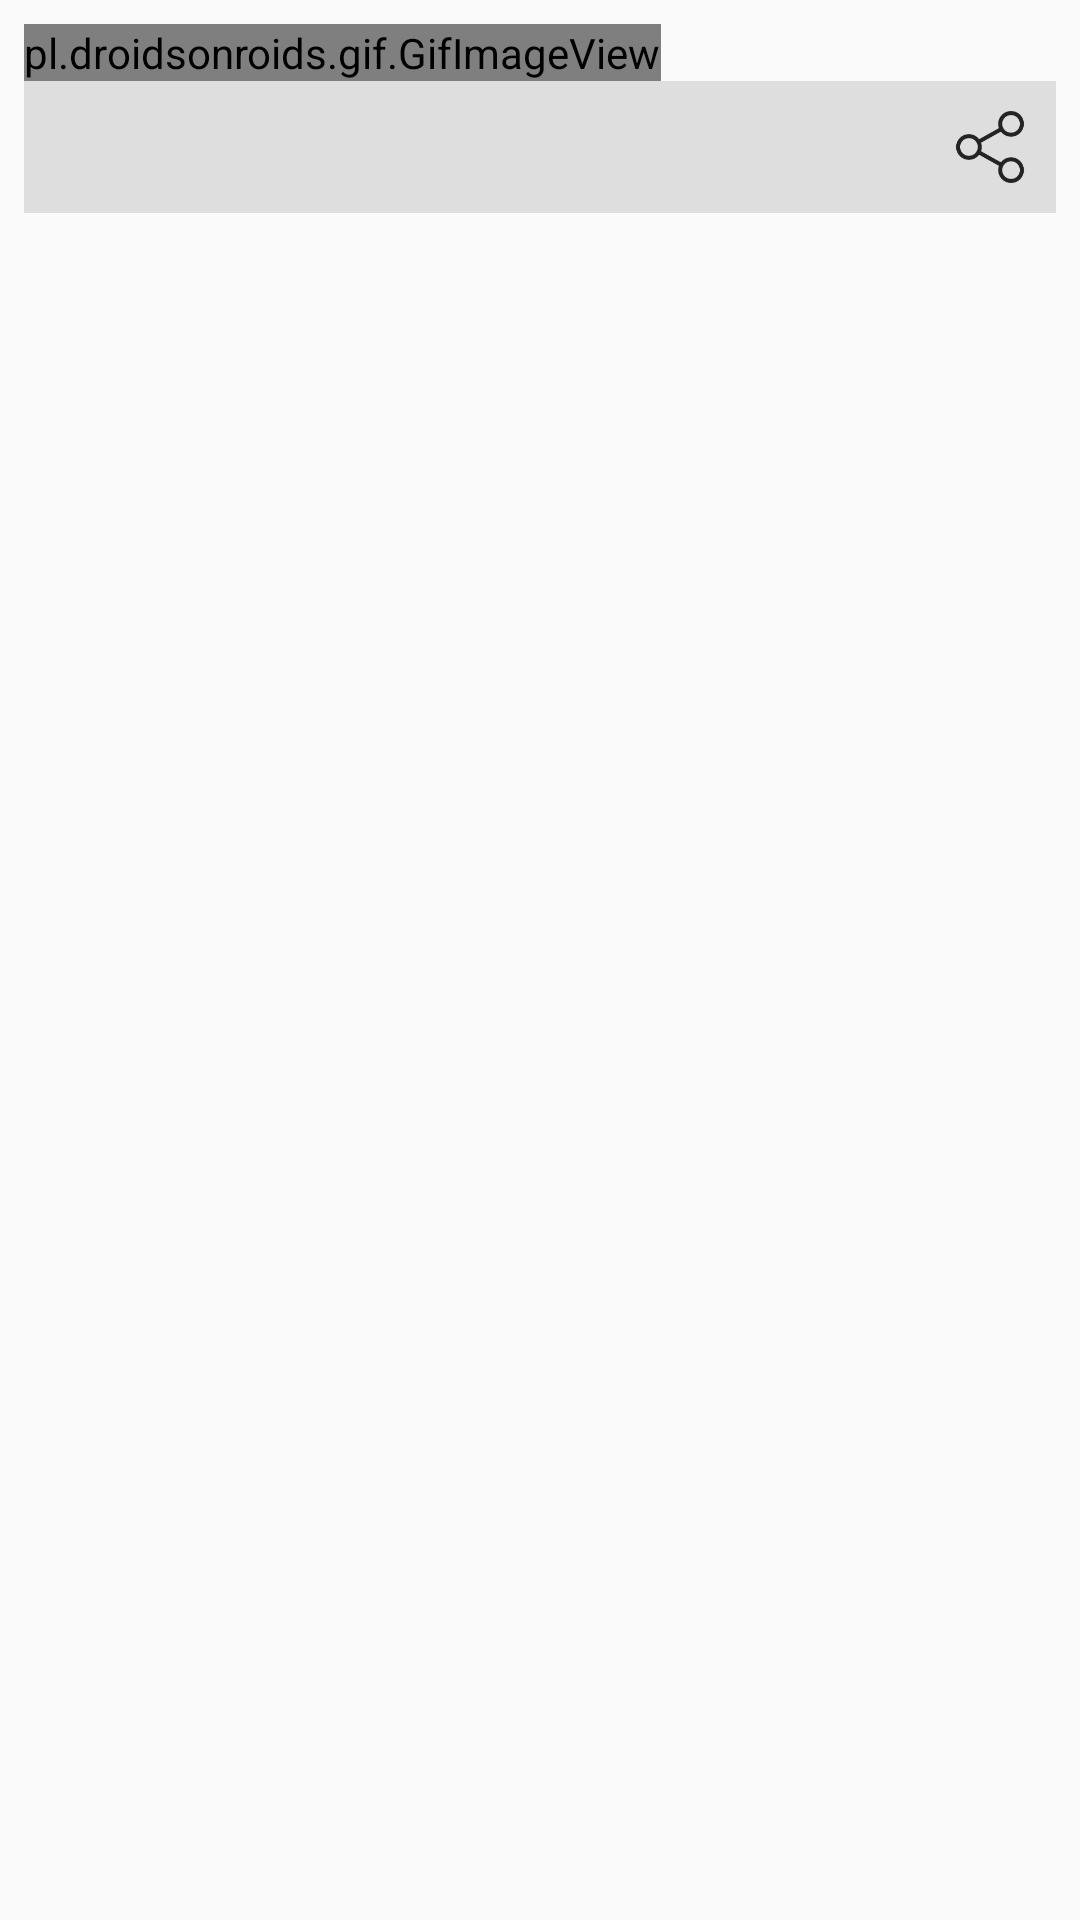

Icons on this 1080w x 1920h Android screen, each with the point to tap as (x=x, y=y):
share: (x=990, y=147)
